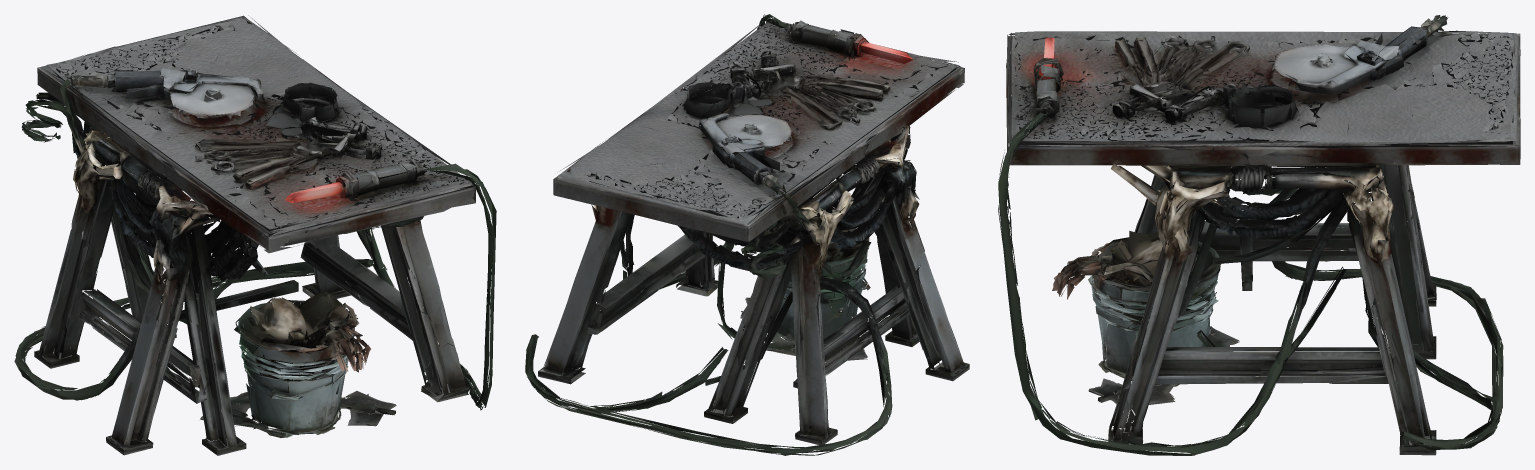
Rendered from vesper_amputation_rig.glb.
3 renders of one model, left to right at view 1: azimuth 30°, elevation 25°; view 2: azimuth 150°, elevation 25°; view 3: azimuth 270°, elevation 25°, orthographic. The views are drawn at different scales.
Visible parts, largest first — view 1: node_0; view 2: node_0; view 3: node_0.
Boxes of the visible parts, x1,y1,x2,y2 form: node_0: (14,15,496,455); node_0: (525,14,969,455); node_0: (998,15,1520,455).
Size of the model in its own units: 0.8317 by 0.6233 by 0.9456.
1 material, 1 textured.
